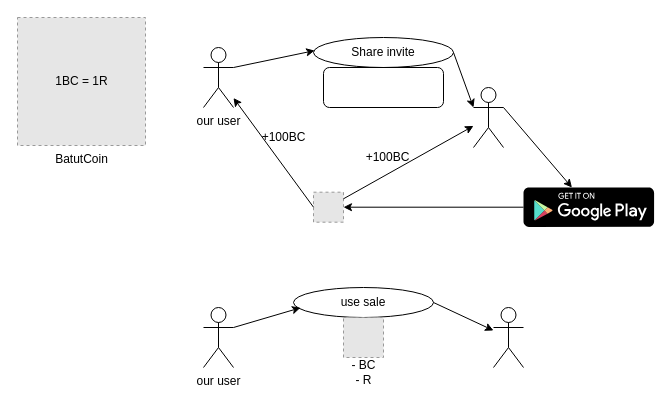
Some shapes in this 672 by 406 pixel diagram are drawn without their labels. Grey dashed boxes stand in for pictures. The box of each missing label's shape, as (x1, y1, x2, y2) in pixels:
his friend: (472, 86, 504, 148)
trainer or administration: (492, 306, 524, 368)
URL QR - CODE: (322, 66, 444, 108)
